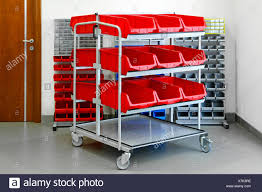Carts: (69, 12, 212, 169)
